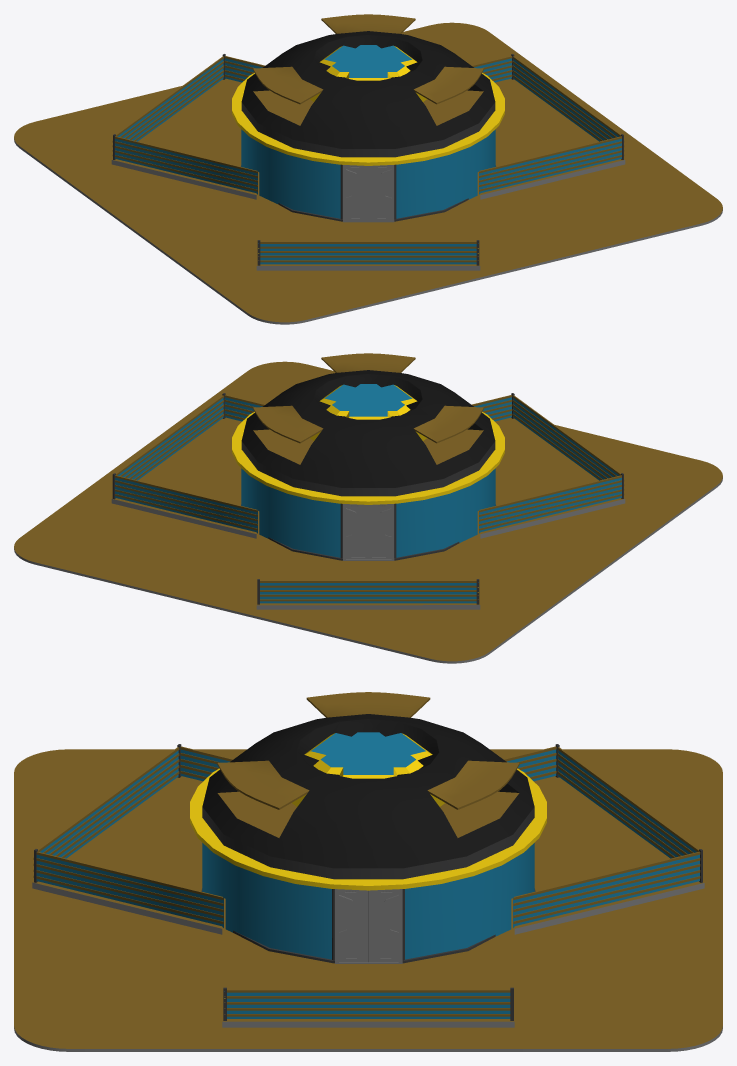
Rendered from SM_MK12_Roof_001.fbx.
3 renders of one model, top to bottom at view 1: azimuth 30°, elevation 25°; view 2: azimuth 150°, elevation 25°; view 3: azimuth 270°, elevation 25°, orthographic. The views are drawn at different scales.
Parts seen in each view (by area): view 1: SM_MK12_Roof_001; view 2: SM_MK12_Roof_001; view 3: SM_MK12_Roof_001.
Boxes of the visible parts, box(x1,y1,x2,y2) form: SM_MK12_Roof_001: box(14, 14, 722, 324); SM_MK12_Roof_001: box(14, 353, 722, 663); SM_MK12_Roof_001: box(14, 692, 722, 1051).
Size of the model in its own units: 2100 by 500 by 2100.
